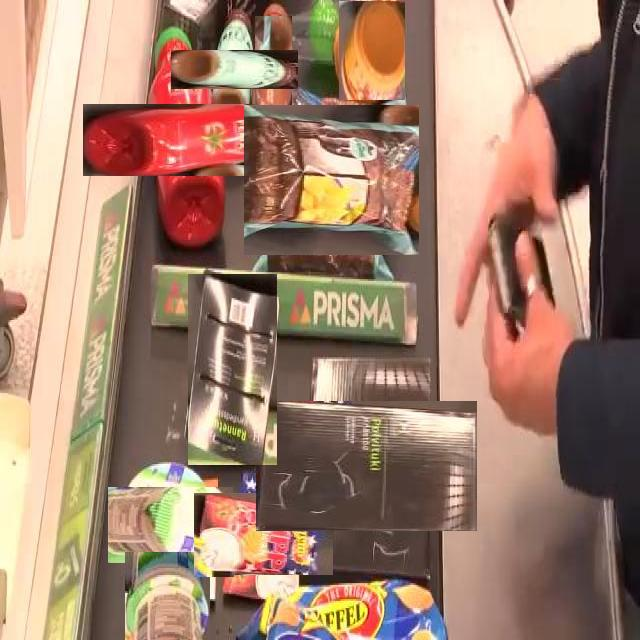beverage: (193, 28, 276, 112), (254, 15, 292, 125)
food-box: (250, 99, 413, 262), (234, 575, 450, 639), (120, 475, 220, 576), (124, 551, 210, 640), (338, 0, 405, 100)
utility-box: (278, 378, 454, 554), (117, 70, 258, 211), (188, 273, 278, 465), (207, 479, 319, 591)
